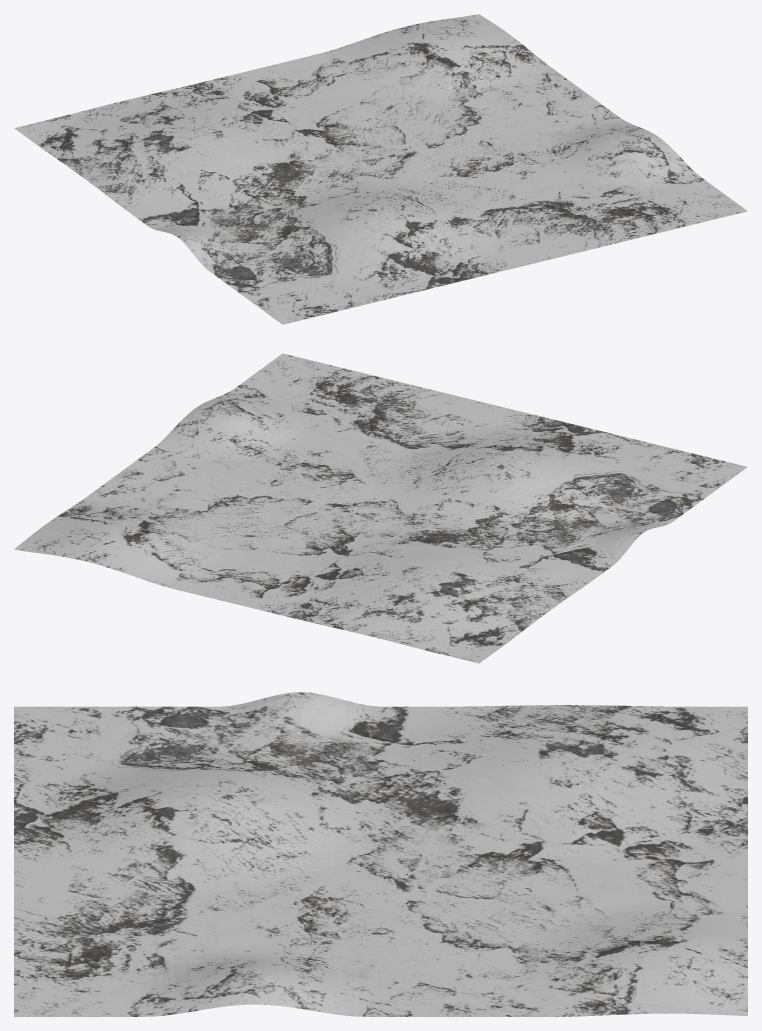
The model's file is SnowPlan.fbx.
3 views of the same model, one above another, from view 1: azimuth 30°, elevation 25°; view 2: azimuth 150°, elevation 25°; view 3: azimuth 270°, elevation 25° (orthographic). The views are drawn at different scales.
Parts seen in each view (by area): view 1: Plane; view 2: Plane; view 3: Plane.
Boxes of the visible parts, bbox=[...] form: Plane: bbox=[14, 14, 747, 324]; Plane: bbox=[14, 353, 747, 663]; Plane: bbox=[14, 692, 747, 1016].
Bounding box in the file's own units: 6000 × 207 × 6000.
